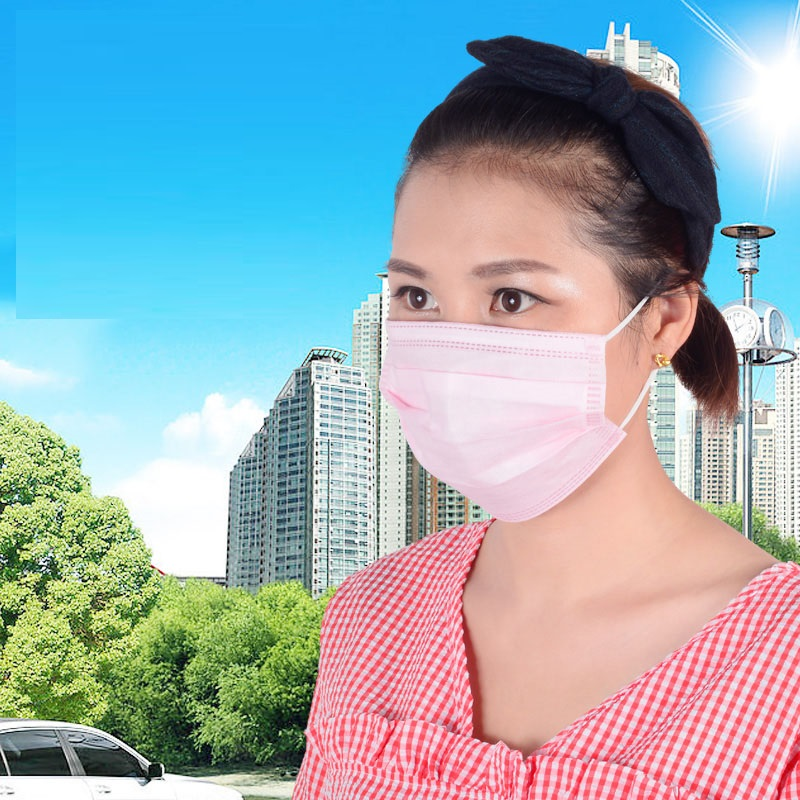face_mask: (373, 147, 633, 503)
